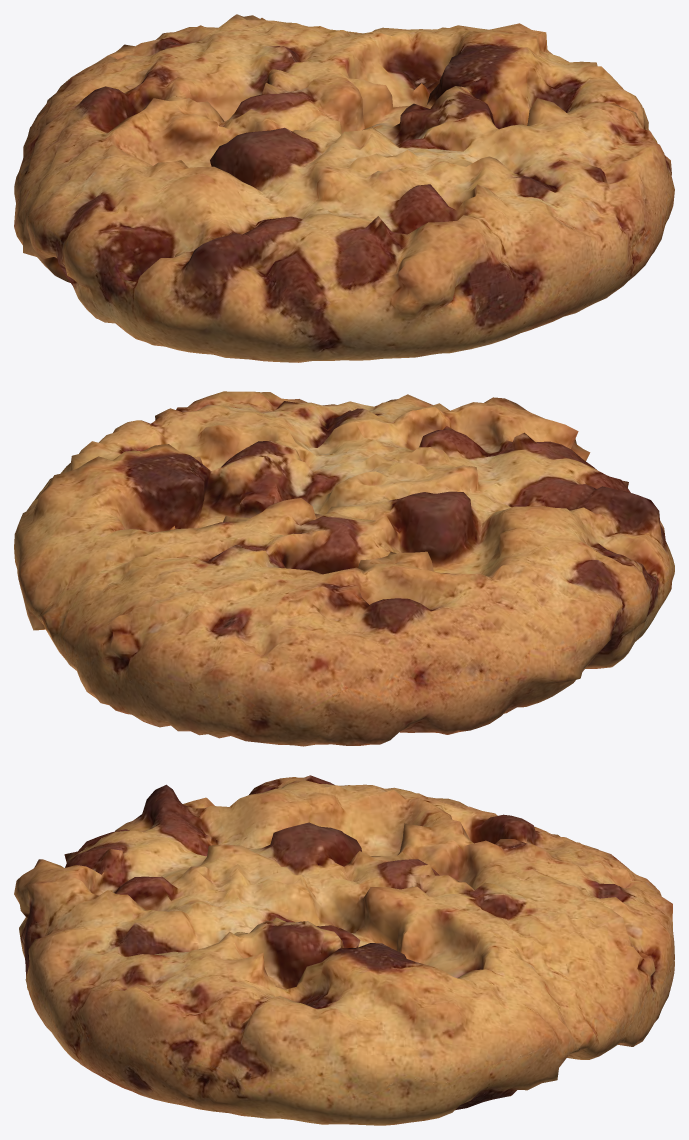
The model's file is cookie-1.glb.
The picture shows the model from 3 angles, top to bottom: view 1: azimuth 30°, elevation 25°; view 2: azimuth 150°, elevation 25°; view 3: azimuth 270°, elevation 25°; orthographic projection. The views are drawn at different scales.
Visible parts, largest first — view 1: Choc Chip Cookie 2 Base LOD 2_Choc Chip Cookie 2 Base LOD 2_; view 2: Choc Chip Cookie 2 Base LOD 2_Choc Chip Cookie 2 Base LOD 2_; view 3: Choc Chip Cookie 2 Base LOD 2_Choc Chip Cookie 2 Base LOD 2_.
Boxes of the visible parts, x1=… form: Choc Chip Cookie 2 Base LOD 2_Choc Chip Cookie 2 Base LOD 2_: x1=14, y1=14, x2=674, y2=362; Choc Chip Cookie 2 Base LOD 2_Choc Chip Cookie 2 Base LOD 2_: x1=14, y1=391, x2=674, y2=746; Choc Chip Cookie 2 Base LOD 2_Choc Chip Cookie 2 Base LOD 2_: x1=14, y1=775, x2=674, y2=1125.
Bounding box in the file's own units: 4.93 × 1.11 × 4.96.
Materials: 1 (1 with a texture image).
